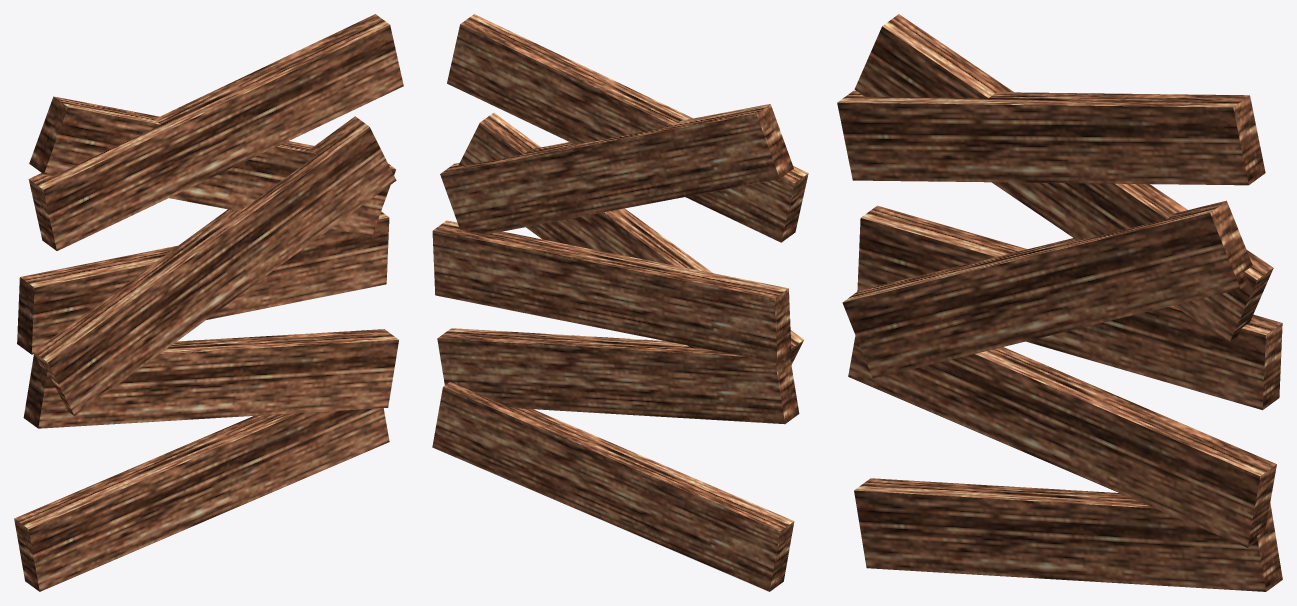
The model's file is wooden planks.glb.
The picture shows the model from 3 angles, left to right: view 1: azimuth 30°, elevation 25°; view 2: azimuth 150°, elevation 25°; view 3: azimuth 330°, elevation 25°; orthographic projection. The views are drawn at different scales.
Visible parts, largest first — view 1: mesh.003, mesh.005, mesh, mesh.001, mesh.002, mesh.004; view 2: mesh, mesh.002, mesh.001, mesh.004, mesh.005, mesh.003; view 3: mesh.005, mesh.003, mesh, mesh.001, mesh.002, mesh.004.
Boxes of the visible parts, <box> form: mesh.003: <box>33,116,396,415</box>; mesh.005: <box>28,14,403,250</box>; mesh: <box>14,408,389,591</box>; mesh.001: <box>23,329,398,428</box>; mesh.002: <box>17,211,389,354</box>; mesh.004: <box>29,96,395,236</box>; mesh: <box>432,382,794,591</box>; mesh.002: <box>432,220,791,363</box>; mesh.001: <box>437,328,799,424</box>; mesh.004: <box>440,104,793,234</box>; mesh.005: <box>447,14,808,242</box>; mesh.003: <box>458,112,803,364</box>; mesh.005: <box>837,90,1265,185</box>; mesh.003: <box>842,200,1252,378</box>; mesh: <box>854,478,1282,591</box>; mesh.001: <box>848,335,1276,547</box>; mesh.002: <box>857,205,1282,410</box>; mesh.004: <box>854,14,1273,343</box>.
Bounding box in the file's own units: 1.79 × 2.33 × 0.25.
Materials: 1 (1 with a texture image).
